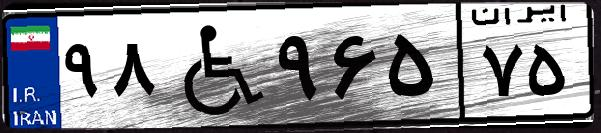5: (385, 28, 445, 110), (525, 38, 570, 115)
6: (330, 28, 385, 110)
7: (475, 38, 525, 113)
8: (110, 28, 158, 98)
9: (270, 28, 330, 110), (57, 26, 110, 100)
ژ (معلولین و جانبازان): (158, 12, 270, 120)
